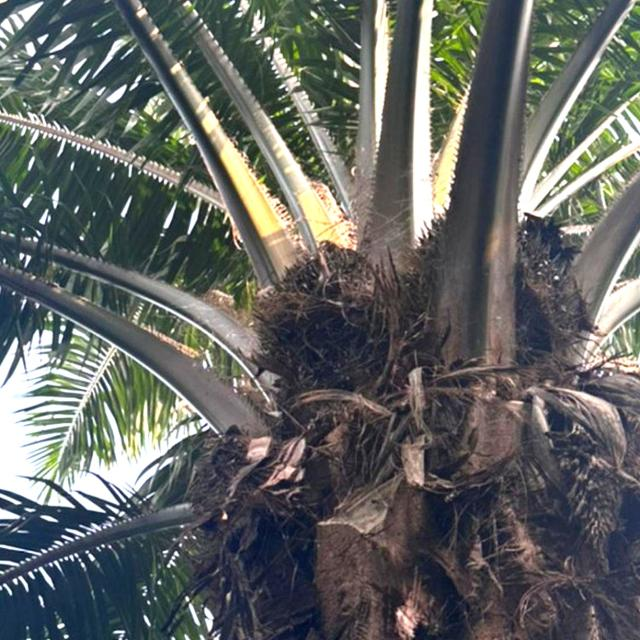unripe: (250, 244, 408, 384)
